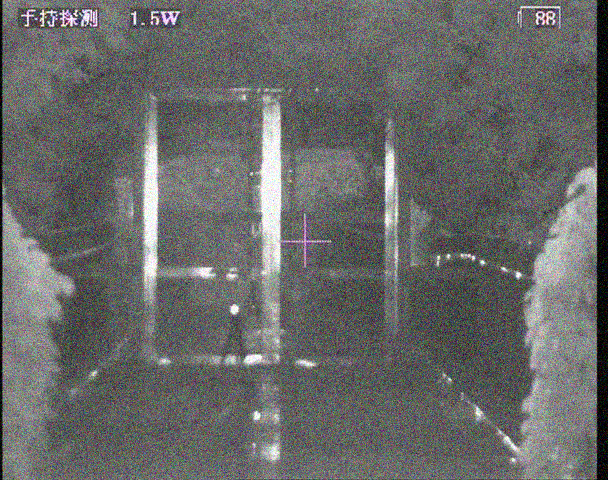my: (229, 303, 239, 316)
